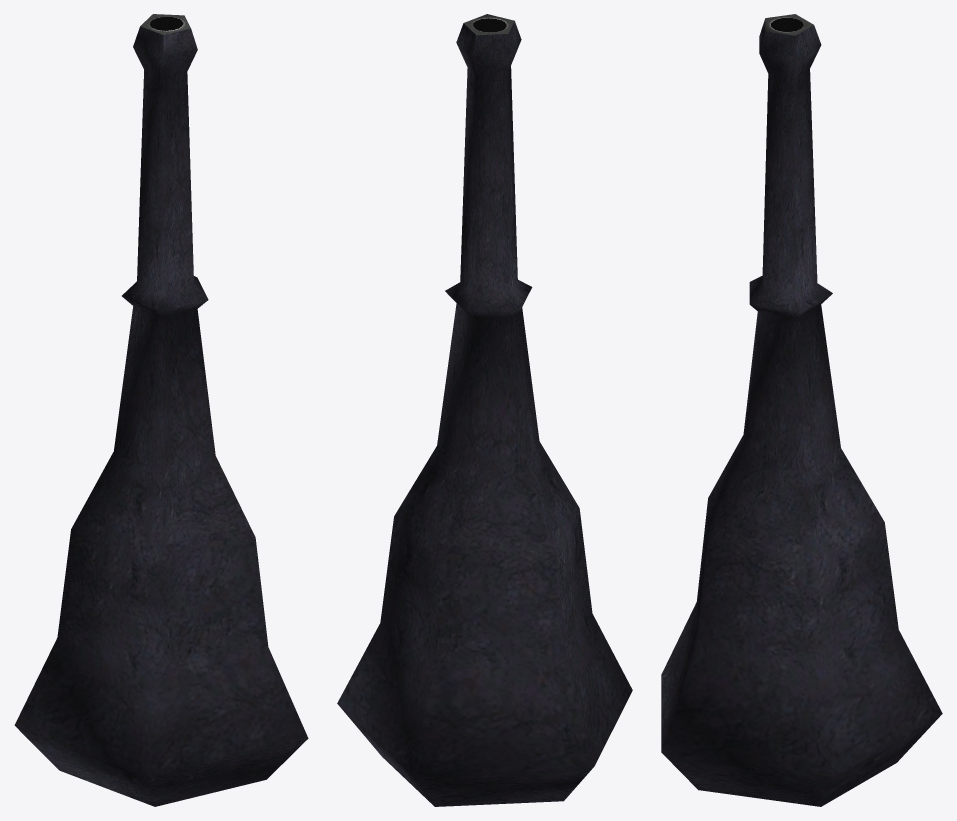
The model's file is edb_con_tato_bottle_empty_s02_l1.fbx.
3 views of the same model, side by side, from view 1: azimuth 30°, elevation 25°; view 2: azimuth 150°, elevation 25°; view 3: azimuth 270°, elevation 25° (orthographic).
Parts seen in each view (by area): view 1: mesh_node; view 2: mesh_node; view 3: mesh_node.
Part boxes in pixels (box(x1,y1,x2,y2)): mesh_node: box(14, 14, 308, 806); mesh_node: box(337, 14, 632, 806); mesh_node: box(661, 14, 942, 806).
Bounding box in the file's own units: 0.3231 × 0.8889 × 0.3073.
